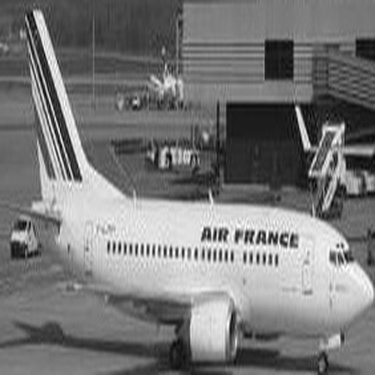airplane: (6, 1, 366, 367), (122, 38, 200, 119)
